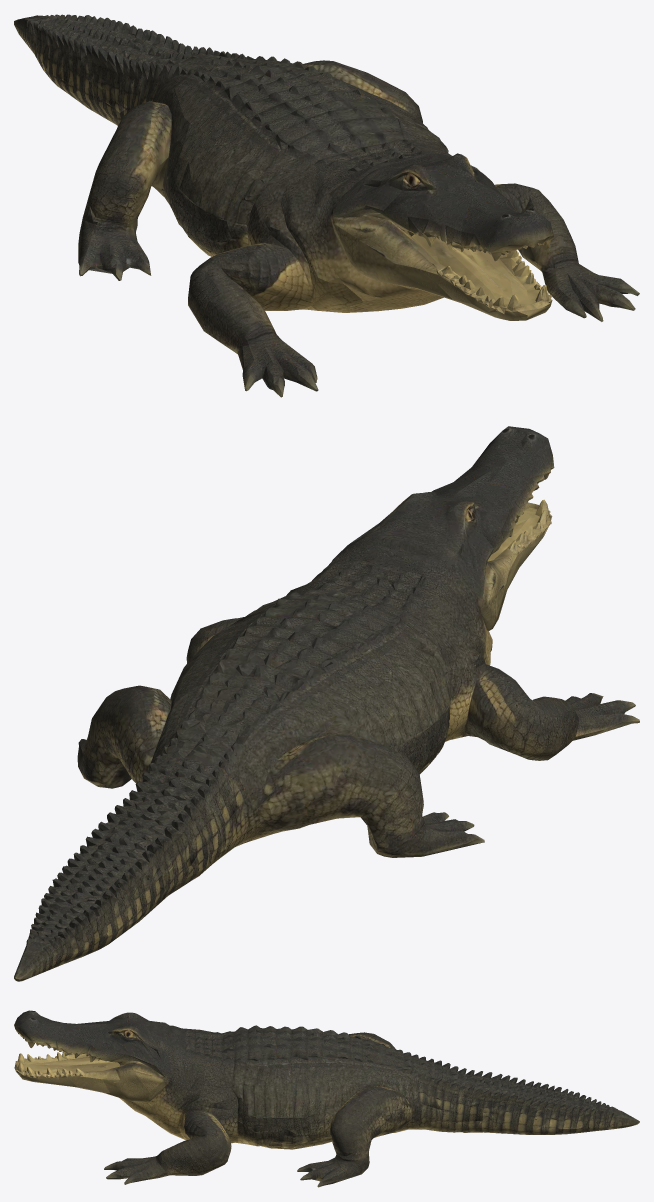
File: fauna_croc.glb
3 renders of one model, top to bottom at view 1: azimuth 30°, elevation 25°; view 2: azimuth 150°, elevation 25°; view 3: azimuth 270°, elevation 25°, orthographic. The views are drawn at different scales.
Size of the model in its own units: 0.8566 by 0.3818 by 1.9.
Materials: 1 (1 with a texture image).
